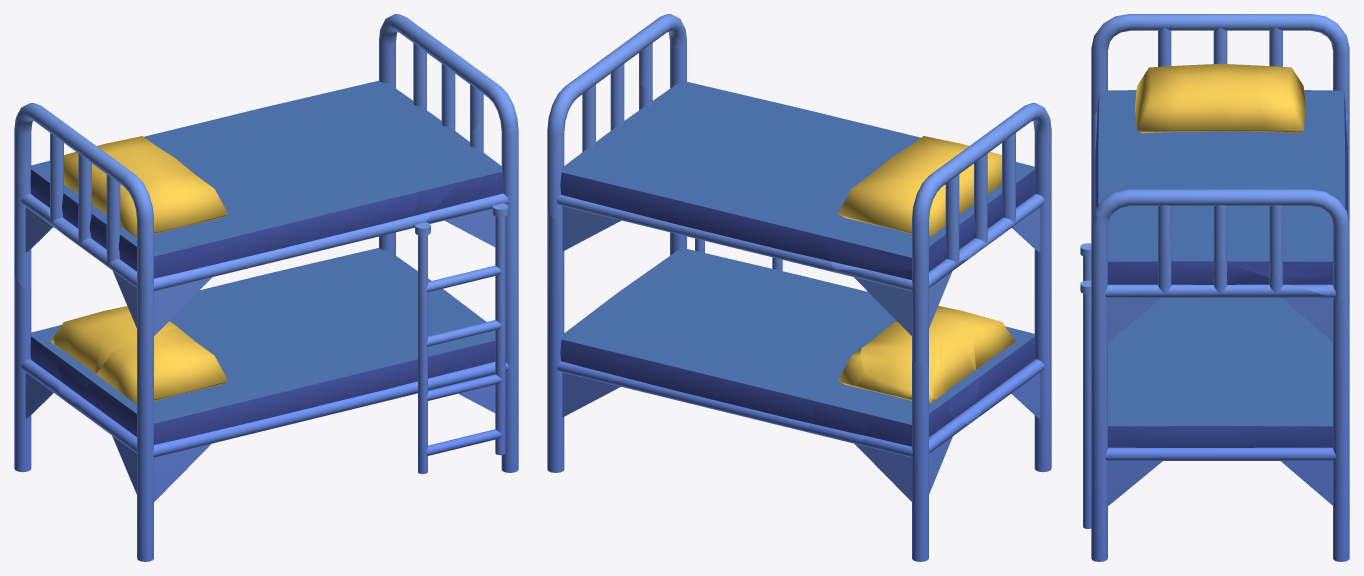
Rendered from bed break.fbx.
3 views of the same model, side by side, from view 1: azimuth 30°, elevation 25°; view 2: azimuth 150°, elevation 25°; view 3: azimuth 270°, elevation 25° (orthographic).
Visible parts, largest first — view 1: Military_base_bed_Part_6, Military_base_bed_Part_2, Military_base_bed_Part_8, Military_base_bed_Part_7, Military_base_bed_Part_4, Military_base_bed_Part_1, Military_base_bed_Part_3; view 2: Military_base_bed_Part_7, Military_base_bed_Part_6, Military_base_bed_Part_2, Military_base_bed_Part_4, Military_base_bed_Part_8, Military_base_bed_Part_1, Military_base_bed_Part_3, Military_base_bed_Part_5; view 3: Military_base_bed_Part_2, Military_base_bed_Part_6, Military_base_bed_Part_7, Military_base_bed_Part_4, Military_base_bed_Part_8.
Part boxes in pixels (<box>): Military_base_bed_Part_6: <box>14,103,427,309</box>; Military_base_bed_Part_2: <box>260,117,518,473</box>; Military_base_bed_Part_8: <box>73,300,381,561</box>; Military_base_bed_Part_7: <box>144,14,516,232</box>; Military_base_bed_Part_4: <box>169,275,330,349</box>; Military_base_bed_Part_1: <box>14,178,178,407</box>; Military_base_bed_Part_3: <box>14,272,64,472</box>; Military_base_bed_Part_7: <box>547,14,832,271</box>; Military_base_bed_Part_6: <box>772,101,1051,270</box>; Military_base_bed_Part_2: <box>547,34,811,472</box>; Military_base_bed_Part_4: <box>678,305,864,432</box>; Military_base_bed_Part_8: <box>794,217,1051,472</box>; Military_base_bed_Part_1: <box>831,258,980,425</box>; Military_base_bed_Part_3: <box>862,360,966,561</box>; Military_base_bed_Part_5: <box>808,374,911,451</box>; Military_base_bed_Part_2: <box>1080,215,1349,561</box>; Military_base_bed_Part_6: <box>1080,14,1349,246</box>; Military_base_bed_Part_7: <box>1084,133,1349,305</box>; Military_base_bed_Part_4: <box>1162,298,1332,365</box>; Military_base_bed_Part_8: <box>1091,135,1231,361</box>.
Size of the model in its own units: 257 by 242 by 161.
1 material, 1 textured.
